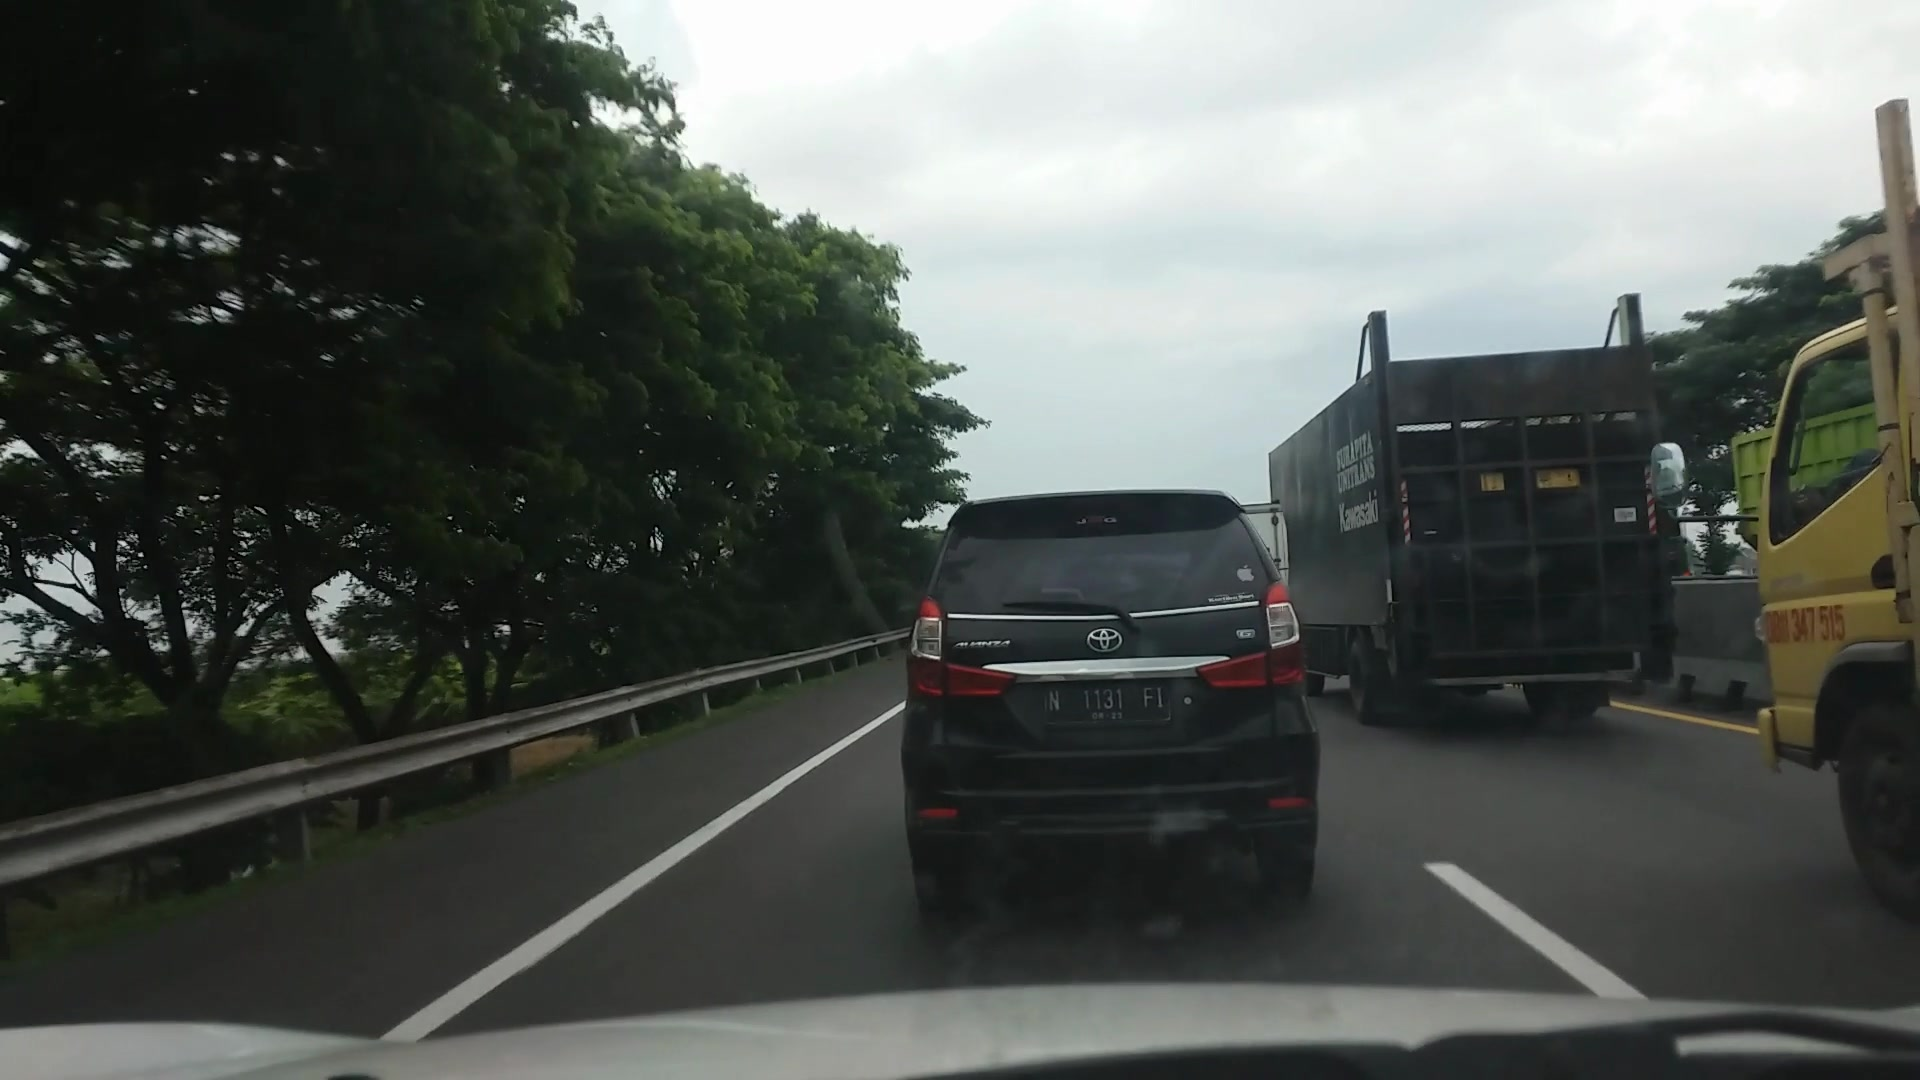plate_positive: (1044, 684, 1171, 723)
